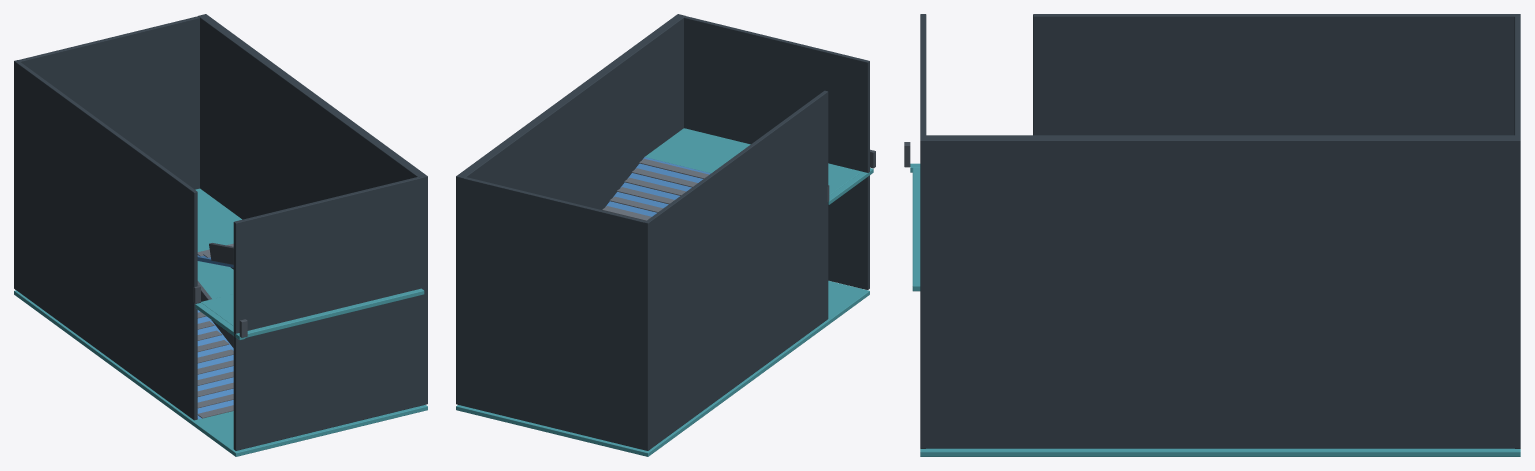
File: env_tower_stairwell_rooftop_9m_top3d_v002.glb
3 renders of one model, left to right at view 1: azimuth 30°, elevation 25°; view 2: azimuth 150°, elevation 25°; view 3: azimuth 270°, elevation 25°, orthographic. The views are drawn at different scales.
Visible parts, largest first — view 1: Stair_Special_Rooftop_EnclosureWall_Inner, Stair_Special_Rooftop_EnclosureWall_DoorSide, Stair_Special_Rooftop_EnclosureWall_Outer, Stair_Special_Rooftop_EnclosureWall_Far, Stair_Special_Rooftop_LowerDoorLanding_Walkable, Stair_Special_Rooftop_UpperDoorLanding_Walkable, Stair_Special_Rooftop_TurnLanding_Walkable, Stair_Special_Rooftop_LowerFlight_Walkable, Stair_Special_Rooftop_UpperFlight_Guard_02, Stair_Special_Rooftop_CoreConnector_Walkable; view 2: Stair_Special_Rooftop_EnclosureWall_Far, Stair_Special_Rooftop_EnclosureWall_Inner, Stair_Special_Rooftop_EnclosureWall_DoorSide, Stair_Special_Rooftop_EnclosureWall_Outer, Stair_Special_Rooftop_LowerDoorLanding_Walkable, Stair_Special_Rooftop_UpperDoorLanding_Walkable, Stair_Special_Rooftop_UpperFlight_Walkable, Stair_Special_Rooftop_UpperFlight_Tread_01; view 3: Stair_Special_Rooftop_EnclosureWall_Outer, Stair_Special_Rooftop_EnclosureWall_Inner, Stair_Special_Rooftop_LowerDoorLanding_Walkable, Stair_Special_Rooftop_EnclosureWall_DoorSide, Stair_Special_Rooftop_UpperDoorLanding_Walkable, Stair_Special_Rooftop_EnclosureWall_Far.
Boxes of the visible parts, x1,y1,x2,y2 form: Stair_Special_Rooftop_EnclosureWall_Inner: (14, 60, 197, 420); Stair_Special_Rooftop_EnclosureWall_DoorSide: (233, 177, 427, 450); Stair_Special_Rooftop_EnclosureWall_Outer: (198, 14, 427, 405); Stair_Special_Rooftop_EnclosureWall_Far: (14, 16, 199, 289); Stair_Special_Rooftop_LowerDoorLanding_Walkable: (14, 261, 427, 456); Stair_Special_Rooftop_UpperDoorLanding_Walkable: (201, 288, 424, 337); Stair_Special_Rooftop_TurnLanding_Walkable: (195, 188, 241, 251); Stair_Special_Rooftop_LowerFlight_Walkable: (197, 310, 233, 419); Stair_Special_Rooftop_UpperFlight_Guard_02: (209, 243, 233, 264); Stair_Special_Rooftop_CoreConnector_Walkable: (195, 303, 245, 340); Stair_Special_Rooftop_EnclosureWall_Far: (456, 177, 650, 450); Stair_Special_Rooftop_EnclosureWall_Inner: (644, 90, 828, 450); Stair_Special_Rooftop_EnclosureWall_DoorSide: (684, 16, 869, 289); Stair_Special_Rooftop_EnclosureWall_Outer: (456, 14, 685, 405); Stair_Special_Rooftop_LowerDoorLanding_Walkable: (456, 280, 869, 456); Stair_Special_Rooftop_UpperDoorLanding_Walkable: (645, 128, 861, 194); Stair_Special_Rooftop_UpperFlight_Walkable: (605, 157, 710, 216); Stair_Special_Rooftop_UpperFlight_Tread_01: (639, 158, 708, 178); Stair_Special_Rooftop_EnclosureWall_Outer: (920, 135, 1520, 448); Stair_Special_Rooftop_EnclosureWall_Inner: (1033, 14, 1520, 135); Stair_Special_Rooftop_LowerDoorLanding_Walkable: (920, 448, 1520, 456); Stair_Special_Rooftop_EnclosureWall_DoorSide: (920, 14, 926, 448); Stair_Special_Rooftop_UpperDoorLanding_Walkable: (912, 167, 920, 291); Stair_Special_Rooftop_EnclosureWall_Far: (1514, 16, 1520, 448).
Bounding box in the file's own units: 15 × 17.54 × 30.8.
